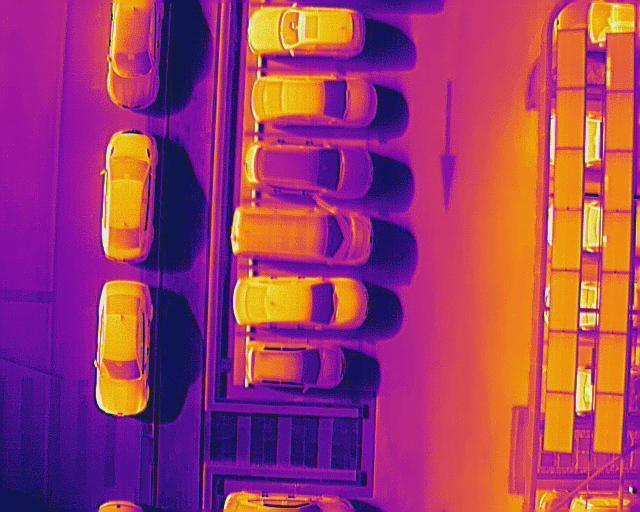panel: (546, 330, 578, 395), (597, 332, 629, 395), (600, 272, 631, 336), (556, 29, 587, 90), (555, 148, 585, 211), (551, 207, 581, 270), (602, 210, 632, 273), (543, 393, 575, 452), (606, 34, 637, 94), (606, 91, 636, 152), (604, 152, 634, 212), (550, 271, 579, 333), (556, 89, 585, 149), (594, 395, 624, 453)
